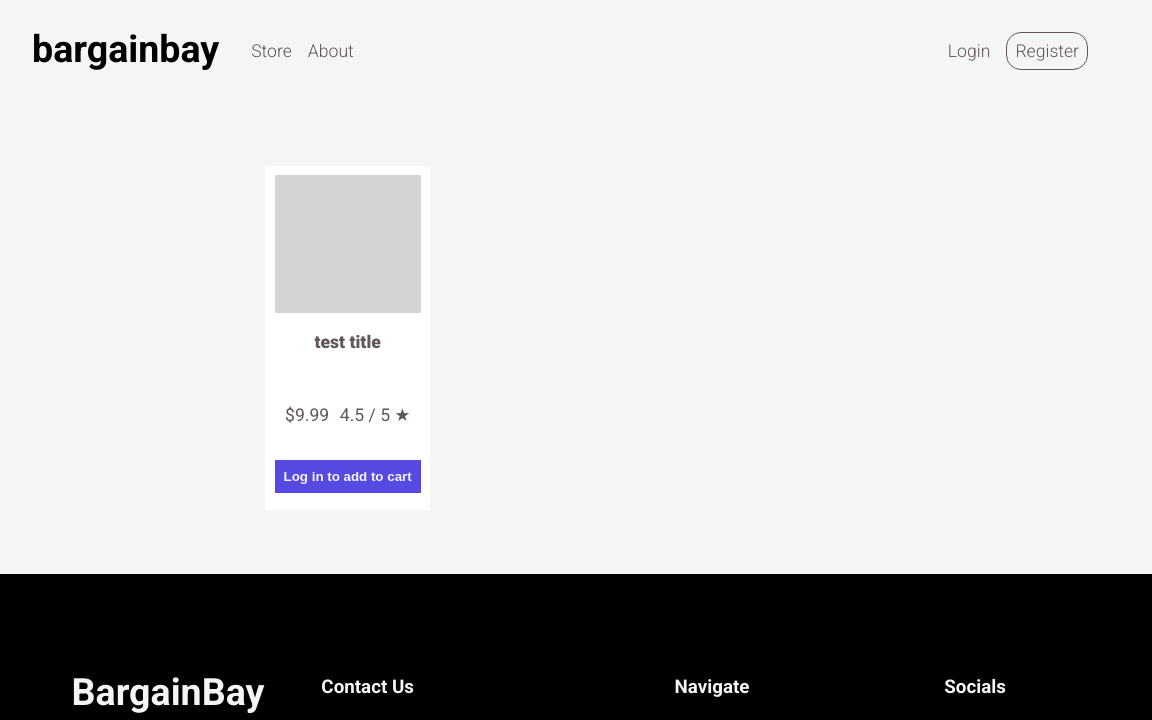
Test: Register › functions correctly
Click the text "Register". click: (1047, 51)
box: left=1015, top=41, right=1079, bottom=61
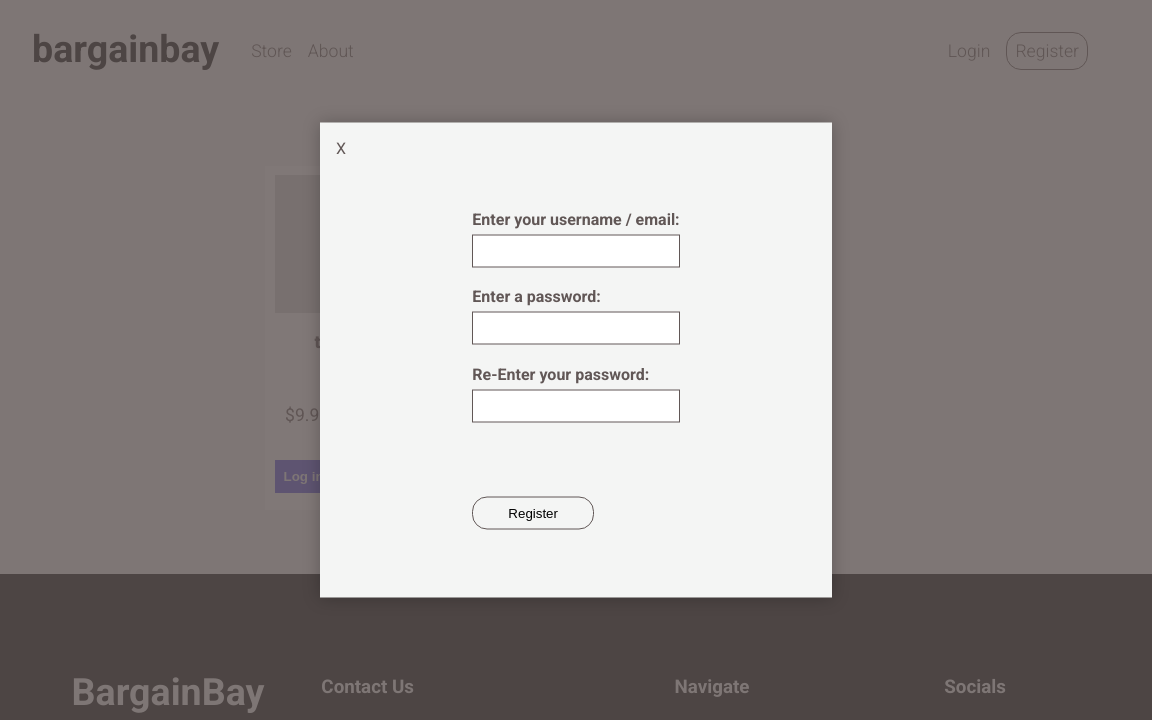
Type "helloworld" into the field named "username". click: (576, 251)
box: left=472, top=234, right=679, bottom=267
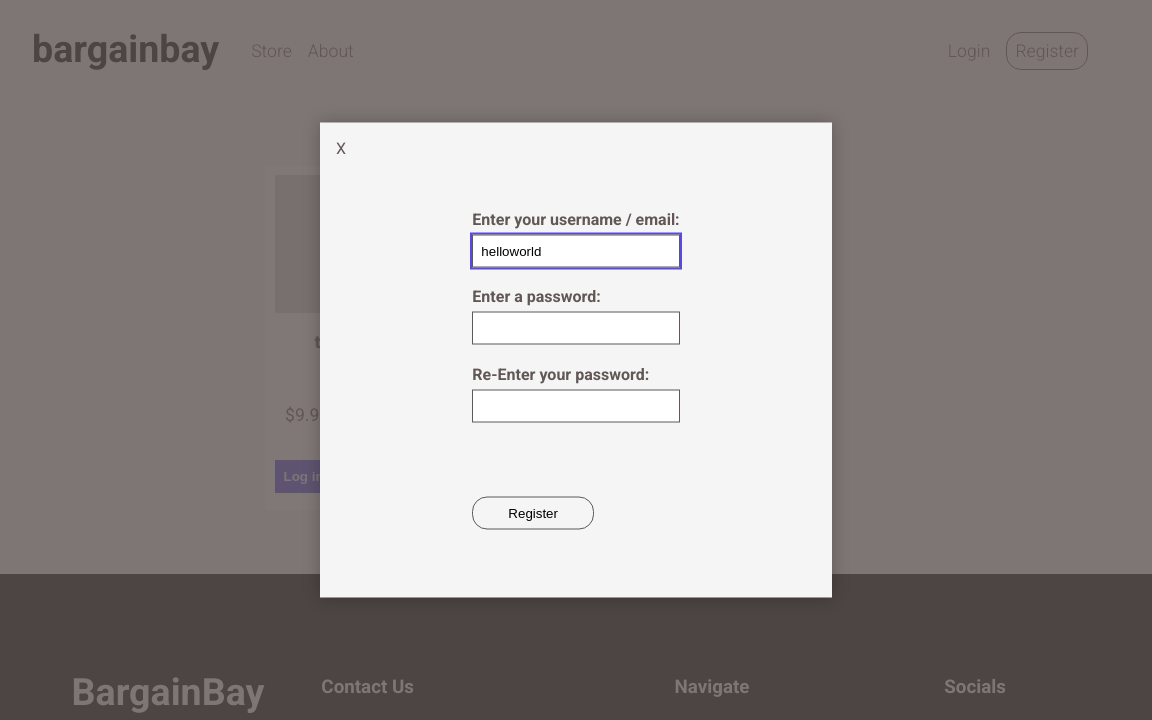
Type "testpassword" into the password field named "password" below "Enter a password:". click: (576, 329)
box: left=472, top=312, right=679, bottom=345
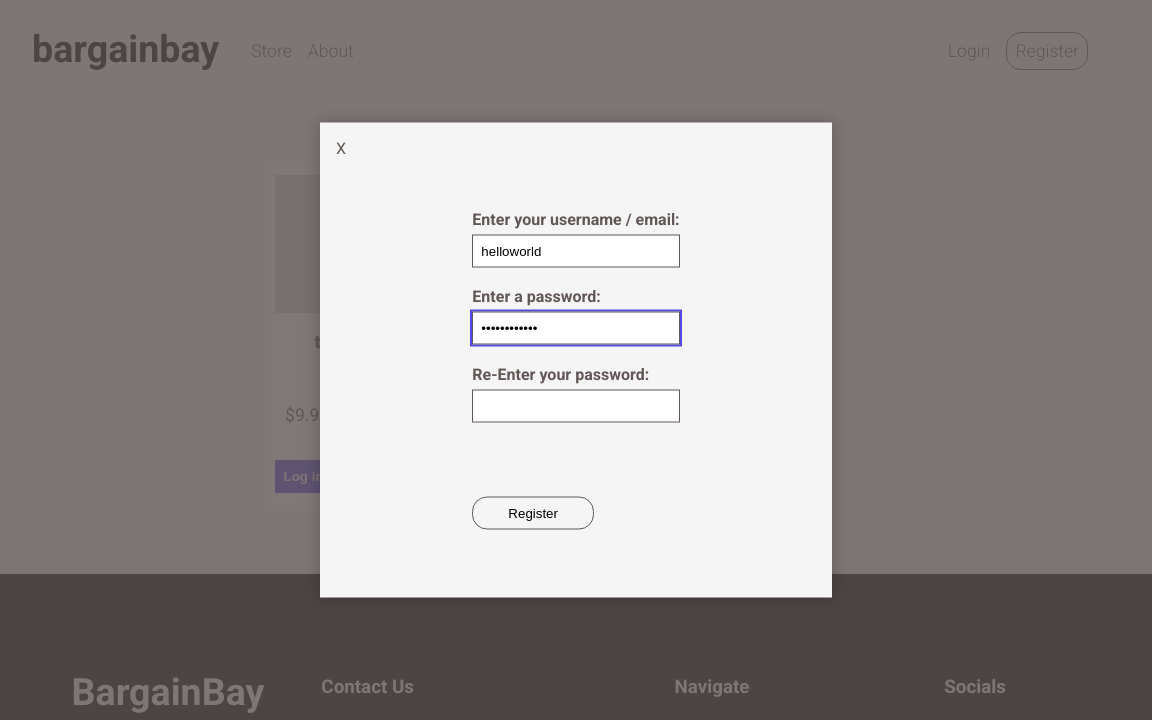
Type "testpassword" into the password field named "password2" below "Re-Enter your password:". click: (576, 406)
box: left=472, top=389, right=679, bottom=422
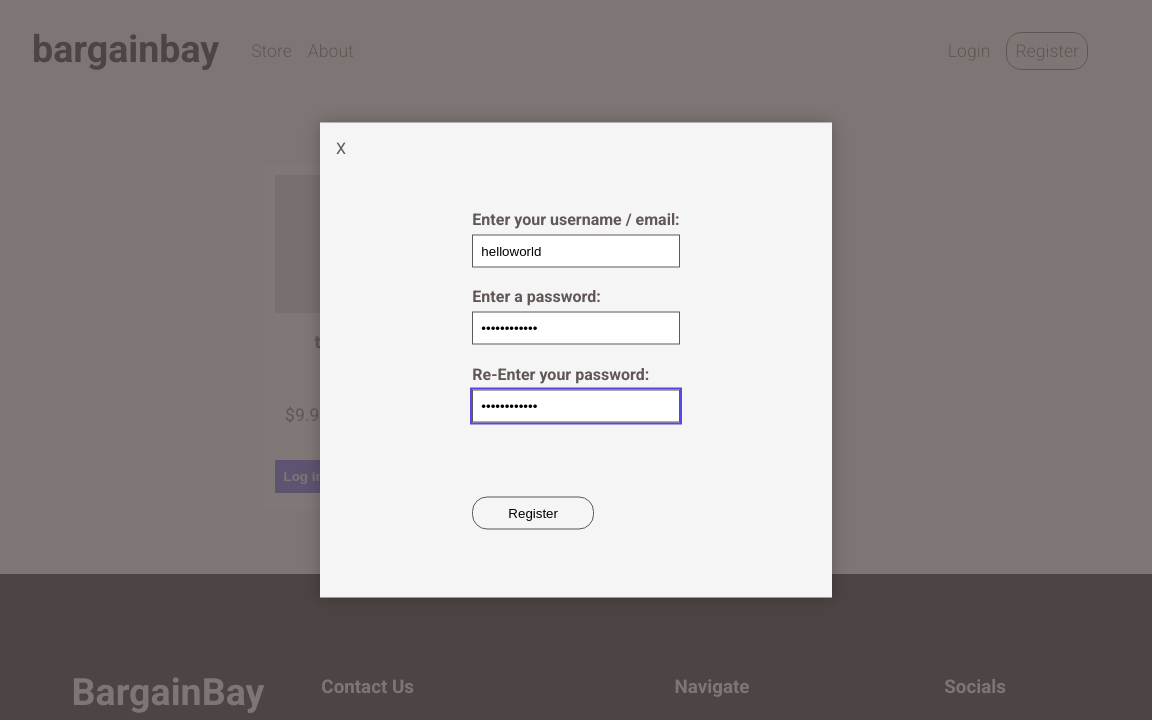
Click the button with class "button__1" showing "Register". click: (533, 514)
box: left=472, top=497, right=594, bottom=530
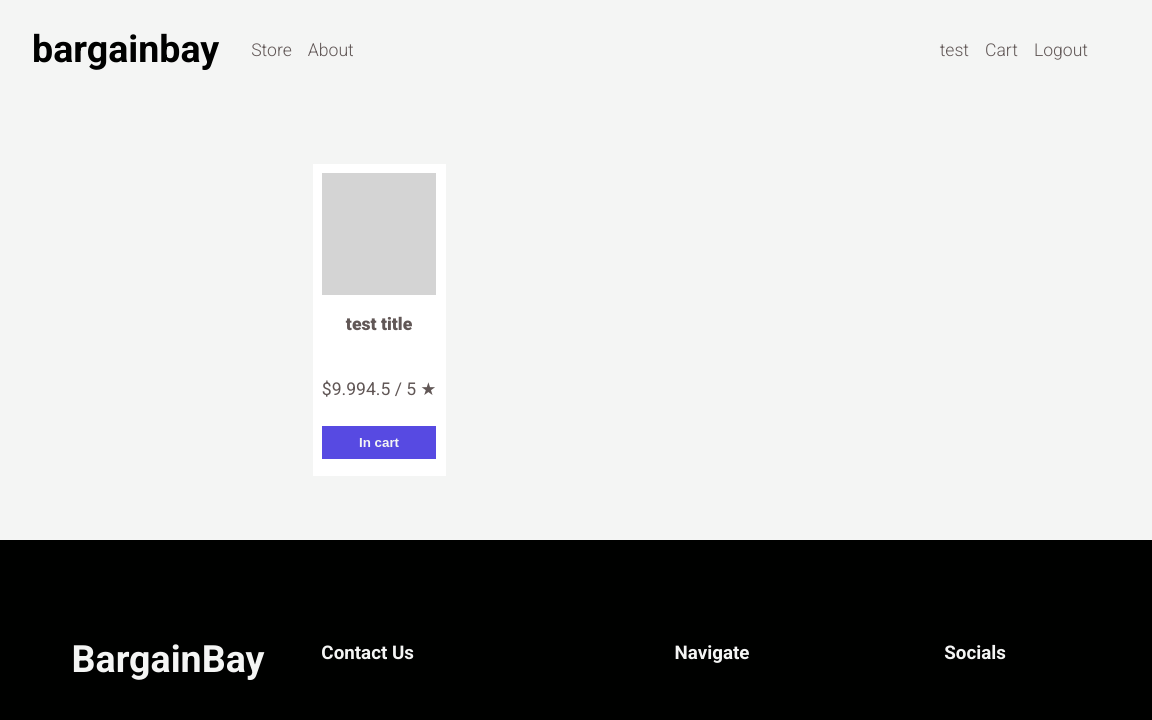
Check: the link "test" is shown, box left=940, top=40, right=969, bottom=60
